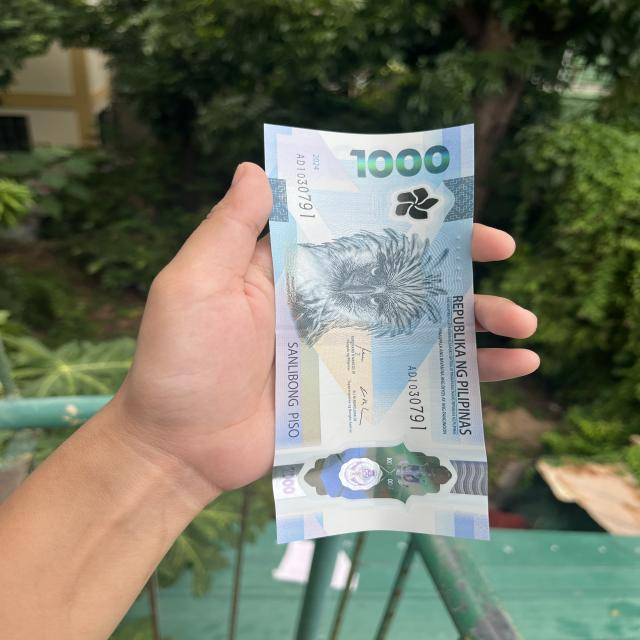clear_window: (305, 439, 452, 512)
eagle: (302, 230, 446, 339)
sampaguita: (375, 181, 447, 225)
security_thread: (271, 321, 477, 349)
serial_number: (286, 148, 320, 229), (402, 362, 433, 431)
value_watermark: (275, 461, 306, 504)
